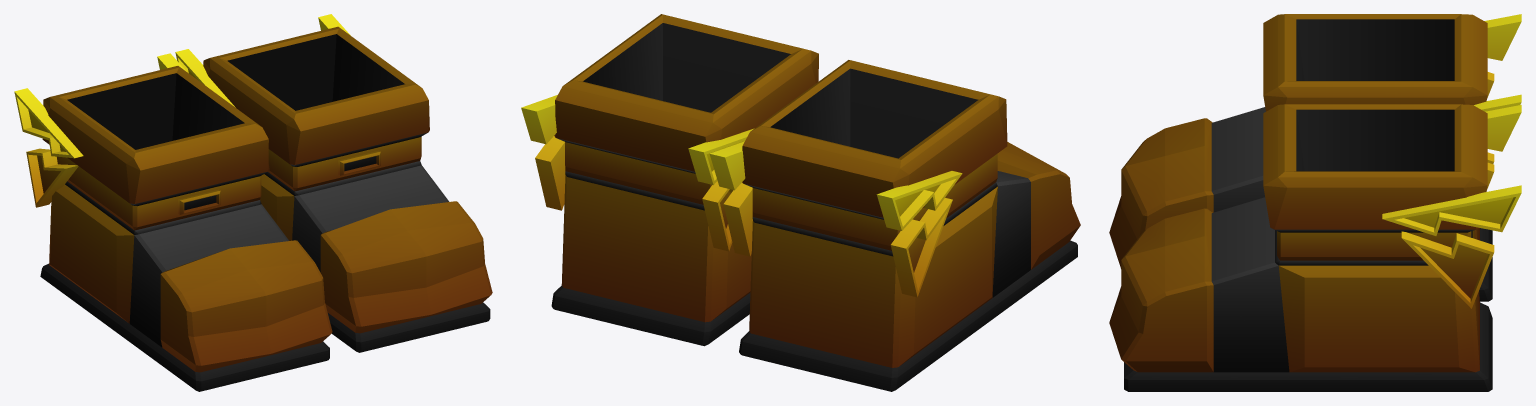
Rendered from boots_2.fbx.
3 renders of one model, left to right at view 1: azimuth 30°, elevation 25°; view 2: azimuth 150°, elevation 25°; view 3: azimuth 270°, elevation 25°, orthographic. The views are drawn at different scales.
Parts seen in each view (by area): view 1: left_boots, right_boots; view 2: left_boots, right_boots; view 3: right_boots, left_boots.
Boxes of the visible parts, x1,y1,x2,y2 form: left_boots: [14, 53, 332, 391]; right_boots: [175, 14, 492, 352]; left_boots: [709, 60, 1080, 391]; right_boots: [521, 14, 818, 346]; right_boots: [1109, 104, 1521, 391]; left_boots: [1109, 14, 1521, 301].
Size of the model in its own units: 48.21 by 27.4 by 47.
